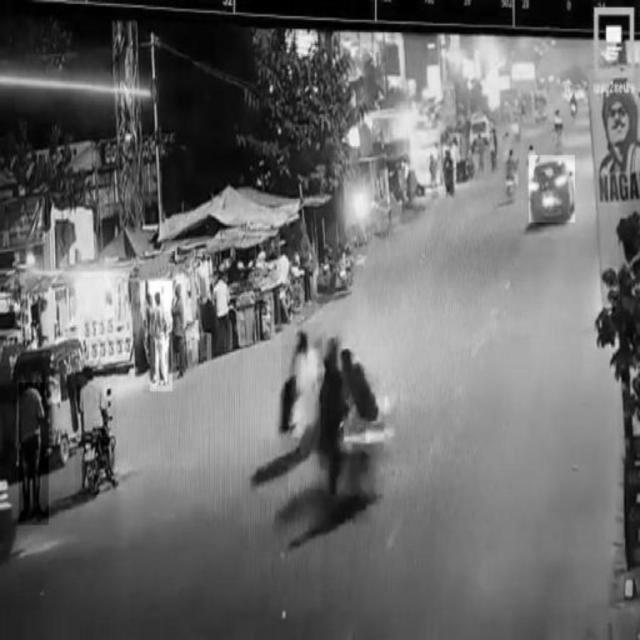accident: (245, 346, 391, 497)
person: (19, 383, 49, 525), (151, 282, 173, 392)
vehicle: (25, 337, 97, 465), (75, 360, 116, 494), (282, 322, 323, 450), (529, 155, 575, 222)
